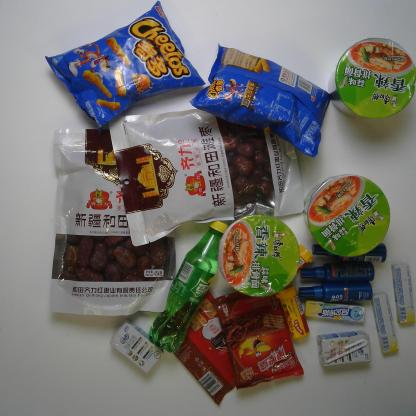Candy: (264, 242, 316, 303), (272, 281, 312, 344), (366, 288, 400, 356), (300, 298, 368, 325), (390, 259, 416, 326)
Dessert: (150, 283, 256, 407), (211, 278, 305, 392)
Dried Food: (104, 93, 310, 248), (44, 121, 179, 320)
Drink: (144, 217, 232, 357)
Instant Noodles: (300, 172, 394, 262), (325, 33, 415, 121), (216, 211, 303, 301)
Milk: (110, 321, 164, 376), (316, 328, 373, 368)
Personal Hygiene: (299, 259, 376, 286), (309, 240, 388, 265), (296, 280, 375, 305)
Puffed Food: (37, 0, 210, 130), (188, 39, 335, 157)
